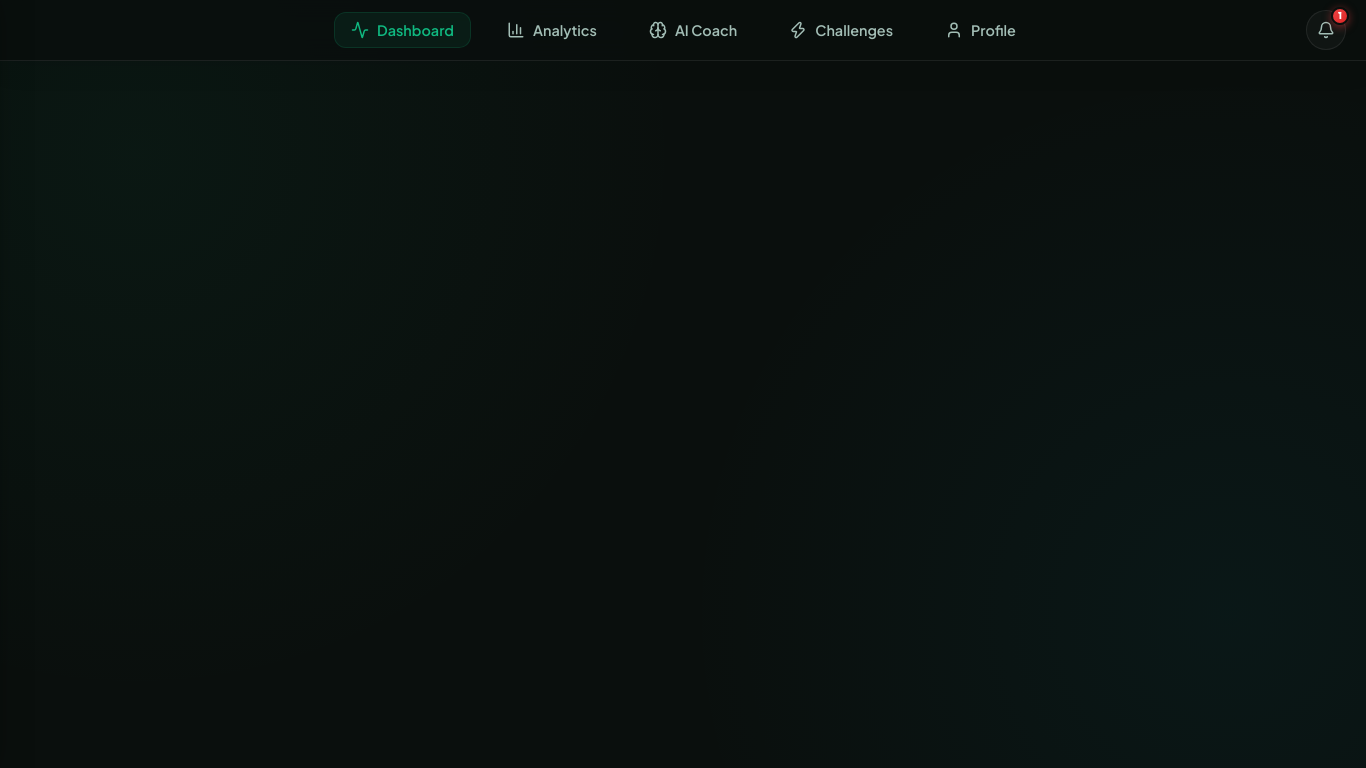
Navbar › toggles notifications dropdown menu on click
expect the text "Notifications" is not shown: met
Click bell to open
Click the button named "notifications": (1326, 30) [1306, 10, 1346, 50]
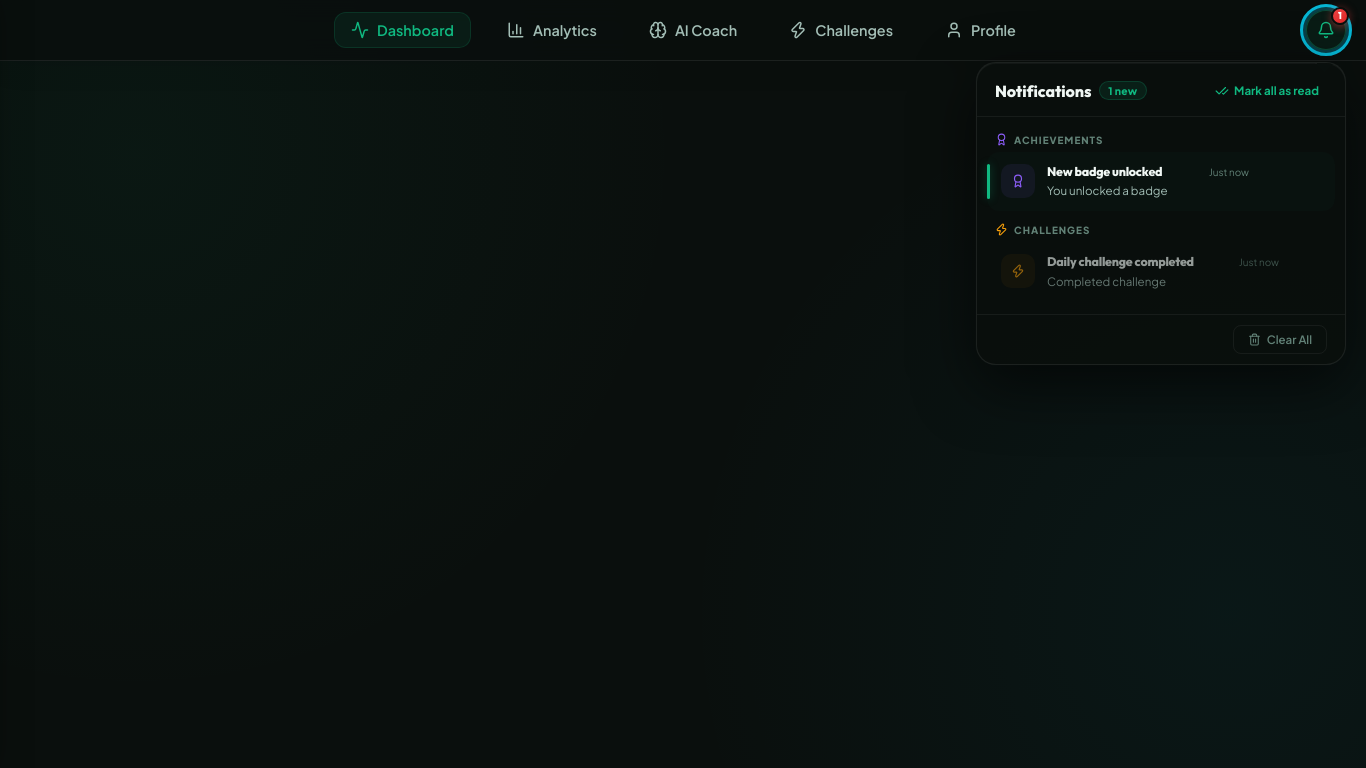
expect the heading "Notifications" is shown: met, box [995, 80, 1091, 100]
expect the heading "New badge unlocked" is shown: met, box [1047, 164, 1162, 180]
expect the heading "Daily challenge completed" is shown: met, box [1047, 254, 1194, 270]
Click bell again to close
Click the button named "notifications": (1326, 30) [1306, 10, 1346, 50]
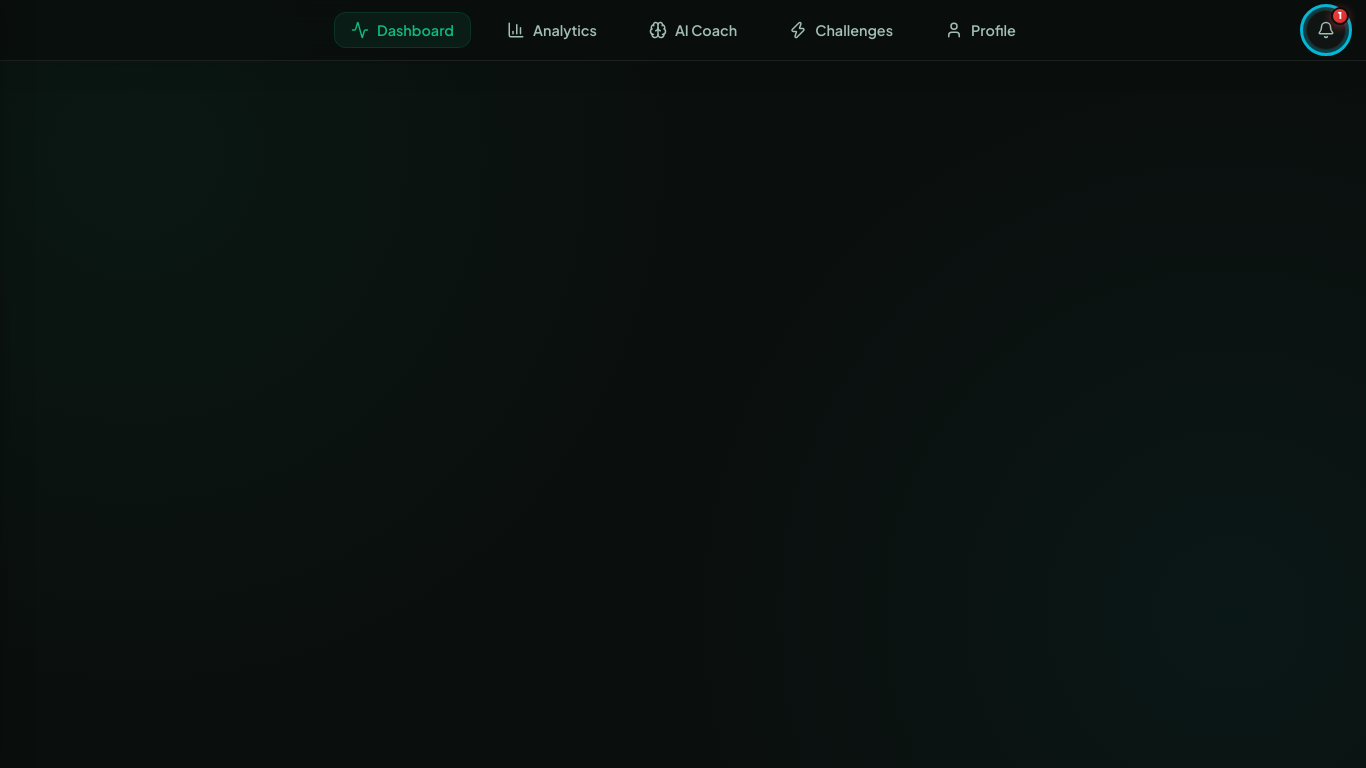
expect the heading "Notifications" is gone: met
